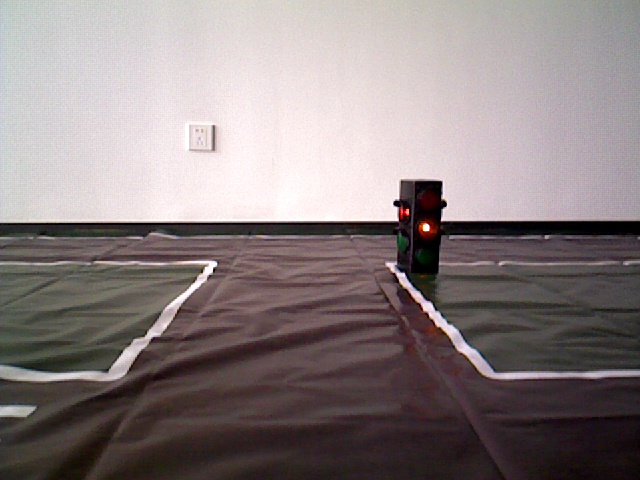yellow: (401, 179, 439, 274)
